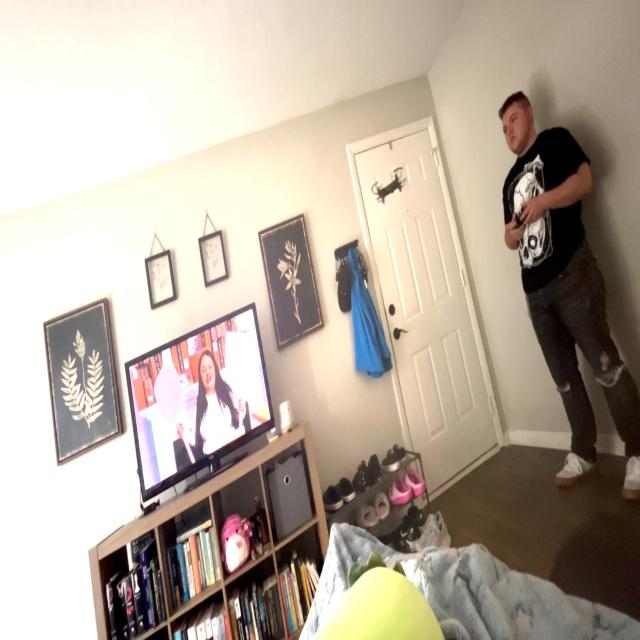drone: (361, 158, 411, 211)
